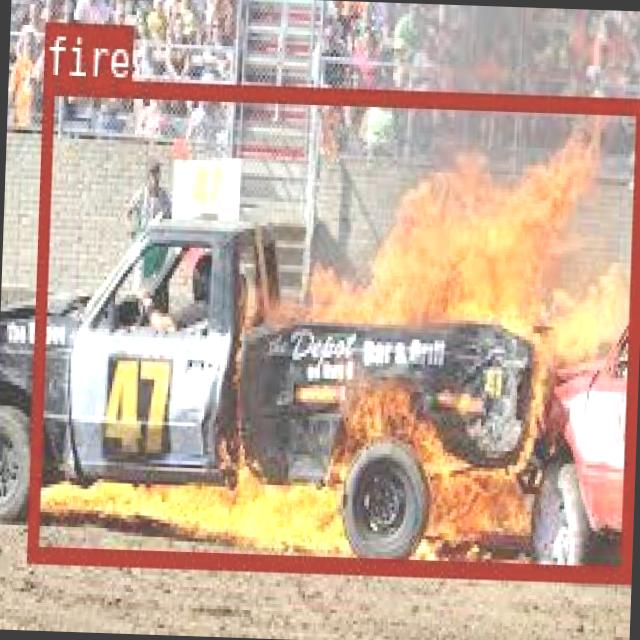fire: (25, 76, 640, 578)
